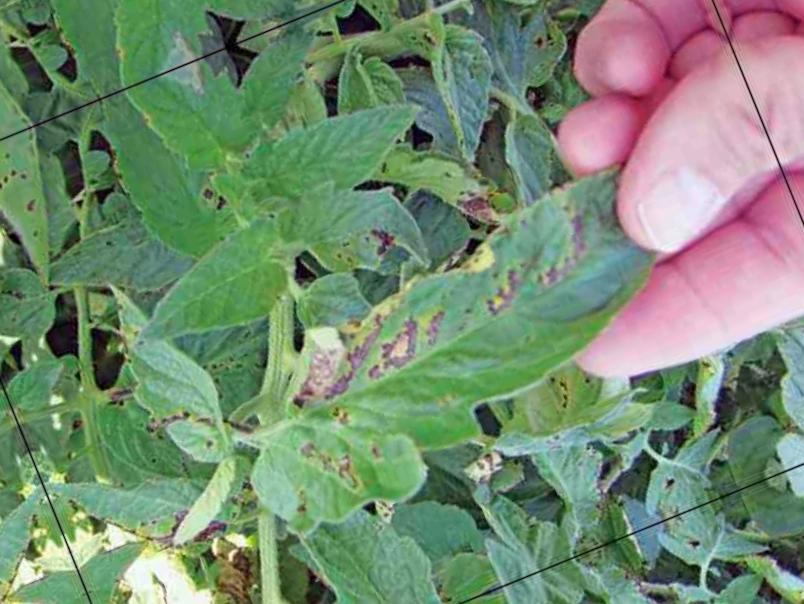Tomato Early blight leaf: (173, 170, 698, 563), (101, 211, 312, 367), (256, 87, 432, 206), (210, 22, 337, 139)
